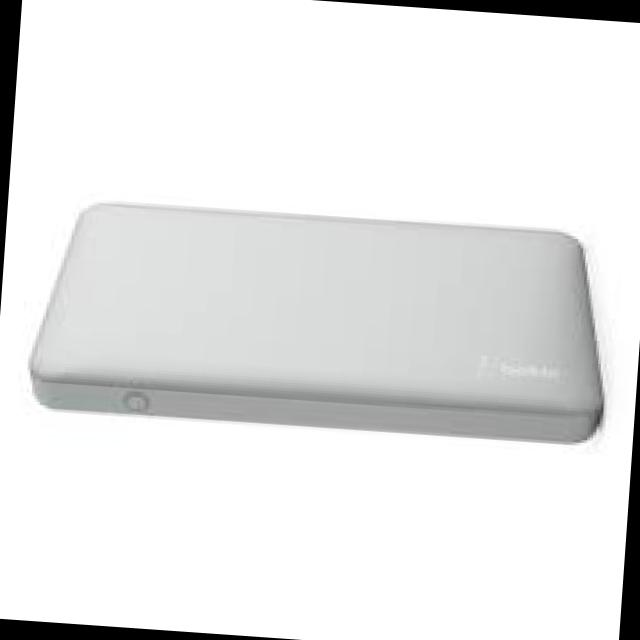power_bank: (18, 187, 620, 452)
